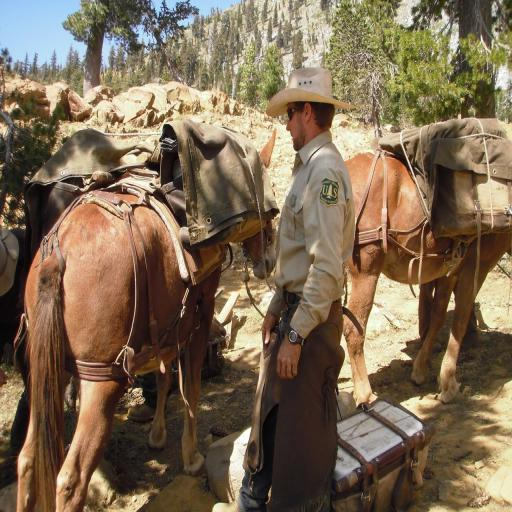horse: (13, 126, 279, 512), (340, 150, 512, 406)
